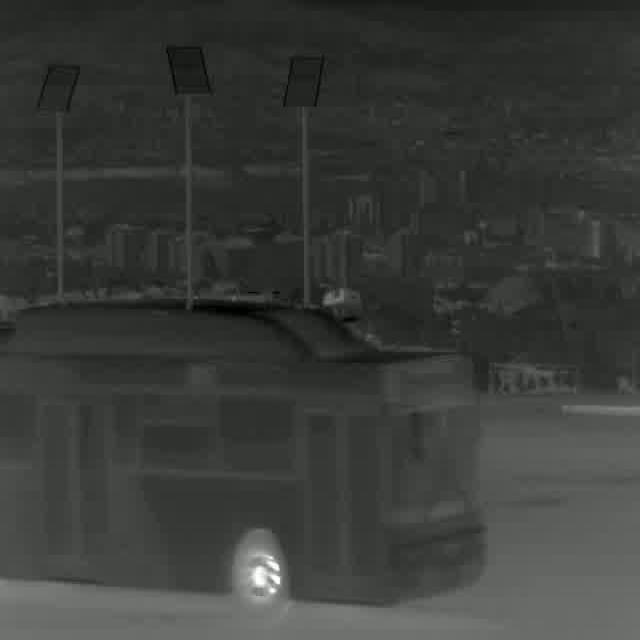Bus: (0, 300, 488, 623)
